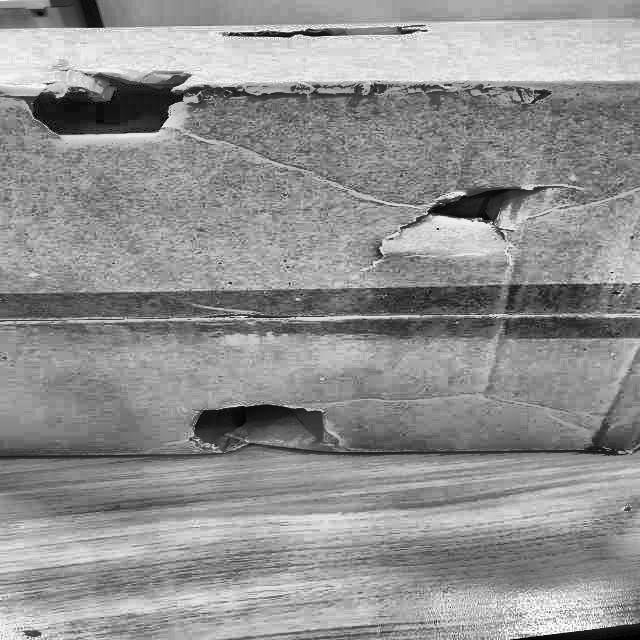box: (0, 12, 639, 464)
hole: (19, 61, 195, 142), (397, 182, 545, 256), (184, 399, 340, 455), (224, 22, 441, 41)
